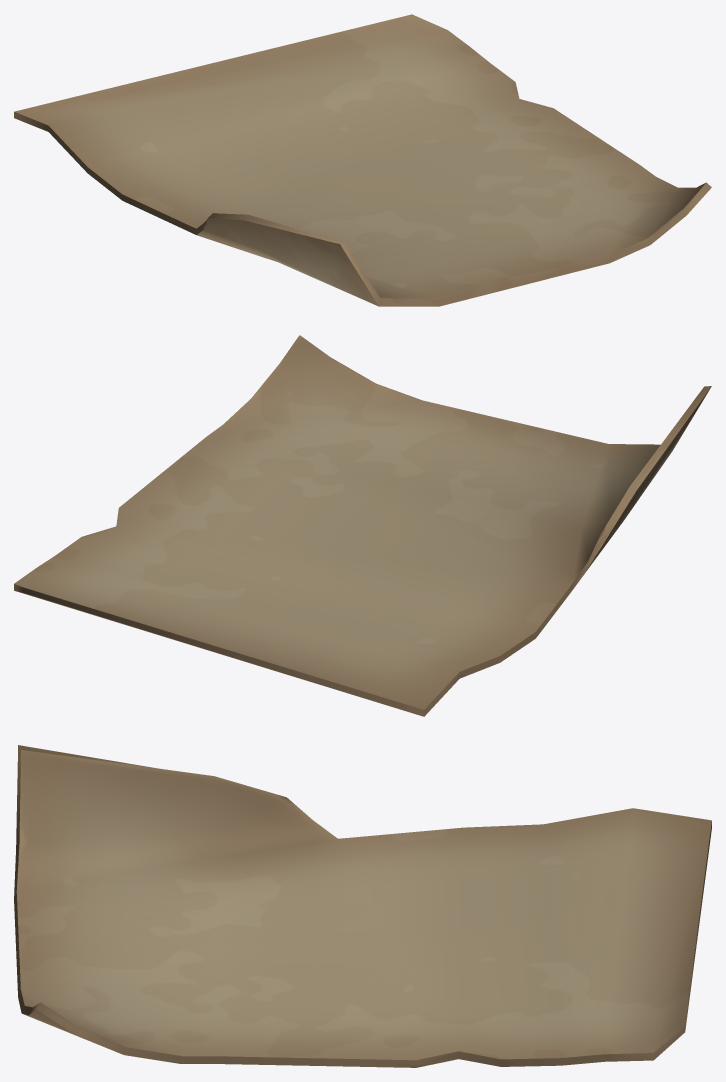
Rendered from Paper_A.fbx.
3 renders of one model, top to bottom at view 1: azimuth 30°, elevation 25°; view 2: azimuth 150°, elevation 25°; view 3: azimuth 270°, elevation 25°, orthographic. The views are drawn at different scales.
Visible parts, largest first — view 1: U_Paper_A; view 2: U_Paper_A; view 3: U_Paper_A.
Part boxes in pixels (x1,y1,x2,y2): U_Paper_A: [14, 14, 711, 306]; U_Paper_A: [14, 335, 711, 716]; U_Paper_A: [14, 745, 711, 1067].
Size of the model in its own units: 65.64 by 13.62 by 82.02.
1 material, 1 textured.
